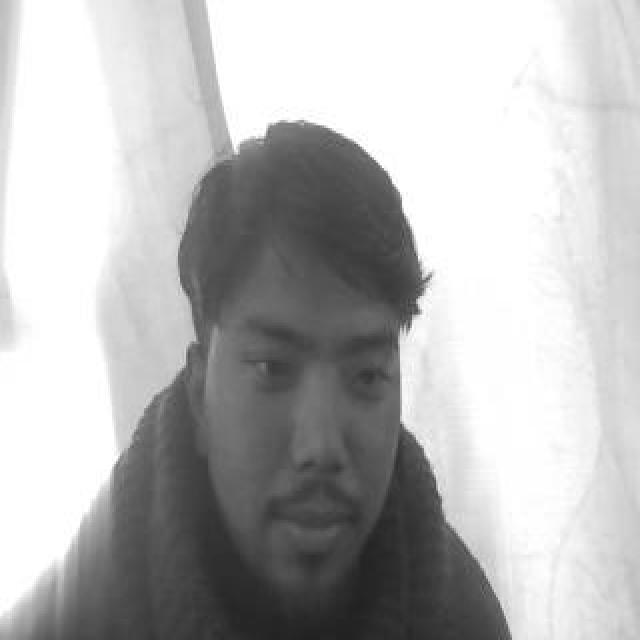Focused: (207, 231, 401, 601)
